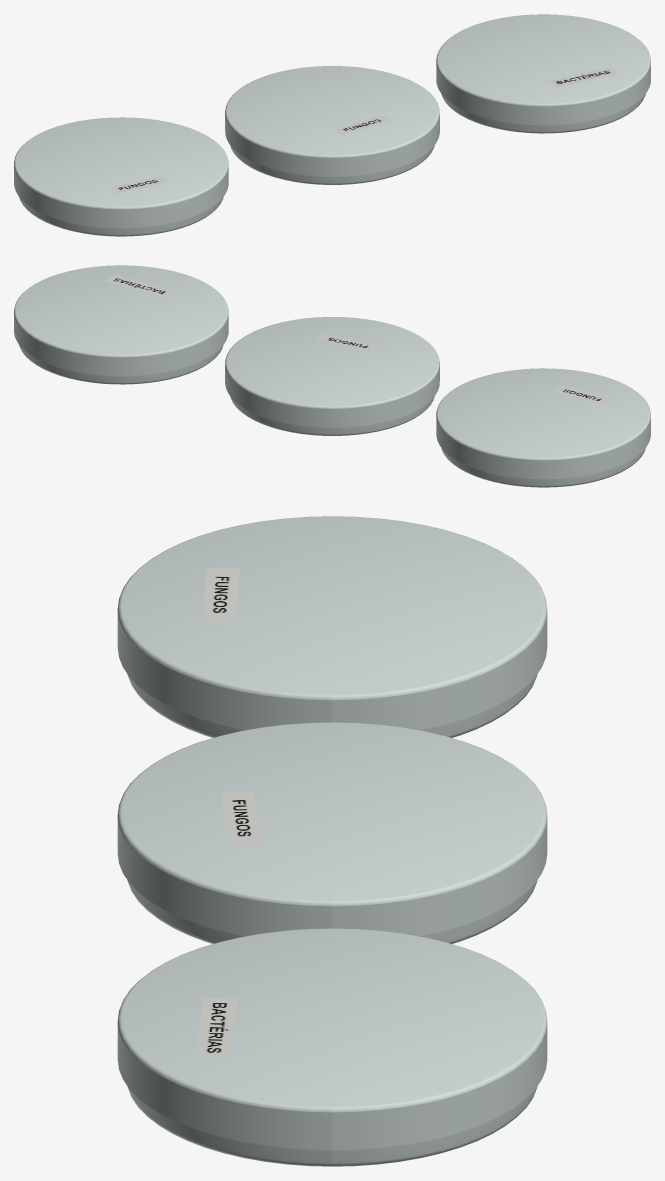
Rendered from placas_20_04_microrganismos.glb.
3 renders of one model, top to bottom at view 1: azimuth 30°, elevation 25°; view 2: azimuth 150°, elevation 25°; view 3: azimuth 270°, elevation 25°, orthographic. The views are drawn at different scales.
Visible parts, largest first — view 1: Tampa_3, Tampa_1, Tampa_2, Base_Vidro_2, Base_Vidro_1, Base_Vidro_3; view 2: Tampa_3, Tampa_1, Tampa_2, Base_Vidro_2, Base_Vidro_1, Base_Vidro_3; view 3: Tampa_3, Tampa_2, Tampa_1, Base_Vidro_3, Base_Vidro_2, Base_Vidro_1.
Boxes of the visible parts, bbox=[...] form: Tampa_3: bbox=[436, 14, 650, 125]; Tampa_1: bbox=[14, 117, 228, 228]; Tampa_2: bbox=[225, 66, 439, 176]; Base_Vidro_2: bbox=[230, 145, 434, 184]; Base_Vidro_1: bbox=[19, 197, 223, 236]; Base_Vidro_3: bbox=[441, 94, 645, 133]; Tampa_3: bbox=[14, 265, 228, 376]; Tampa_1: bbox=[436, 368, 650, 479]; Tampa_2: bbox=[225, 317, 439, 427]; Base_Vidro_2: bbox=[230, 396, 434, 435]; Base_Vidro_1: bbox=[441, 448, 645, 487]; Base_Vidro_3: bbox=[19, 345, 223, 384]; Tampa_3: bbox=[117, 928, 547, 1150]; Tampa_2: bbox=[117, 722, 547, 936]; Tampa_1: bbox=[117, 516, 547, 729]; Base_Vidro_3: bbox=[127, 1086, 537, 1166]; Base_Vidro_2: bbox=[127, 880, 537, 943]; Base_Vidro_1: bbox=[127, 674, 537, 737].
Bounding box in the file's own units: 0.34 × 0.0171 × 0.104.
6 materials, 4 textured.
